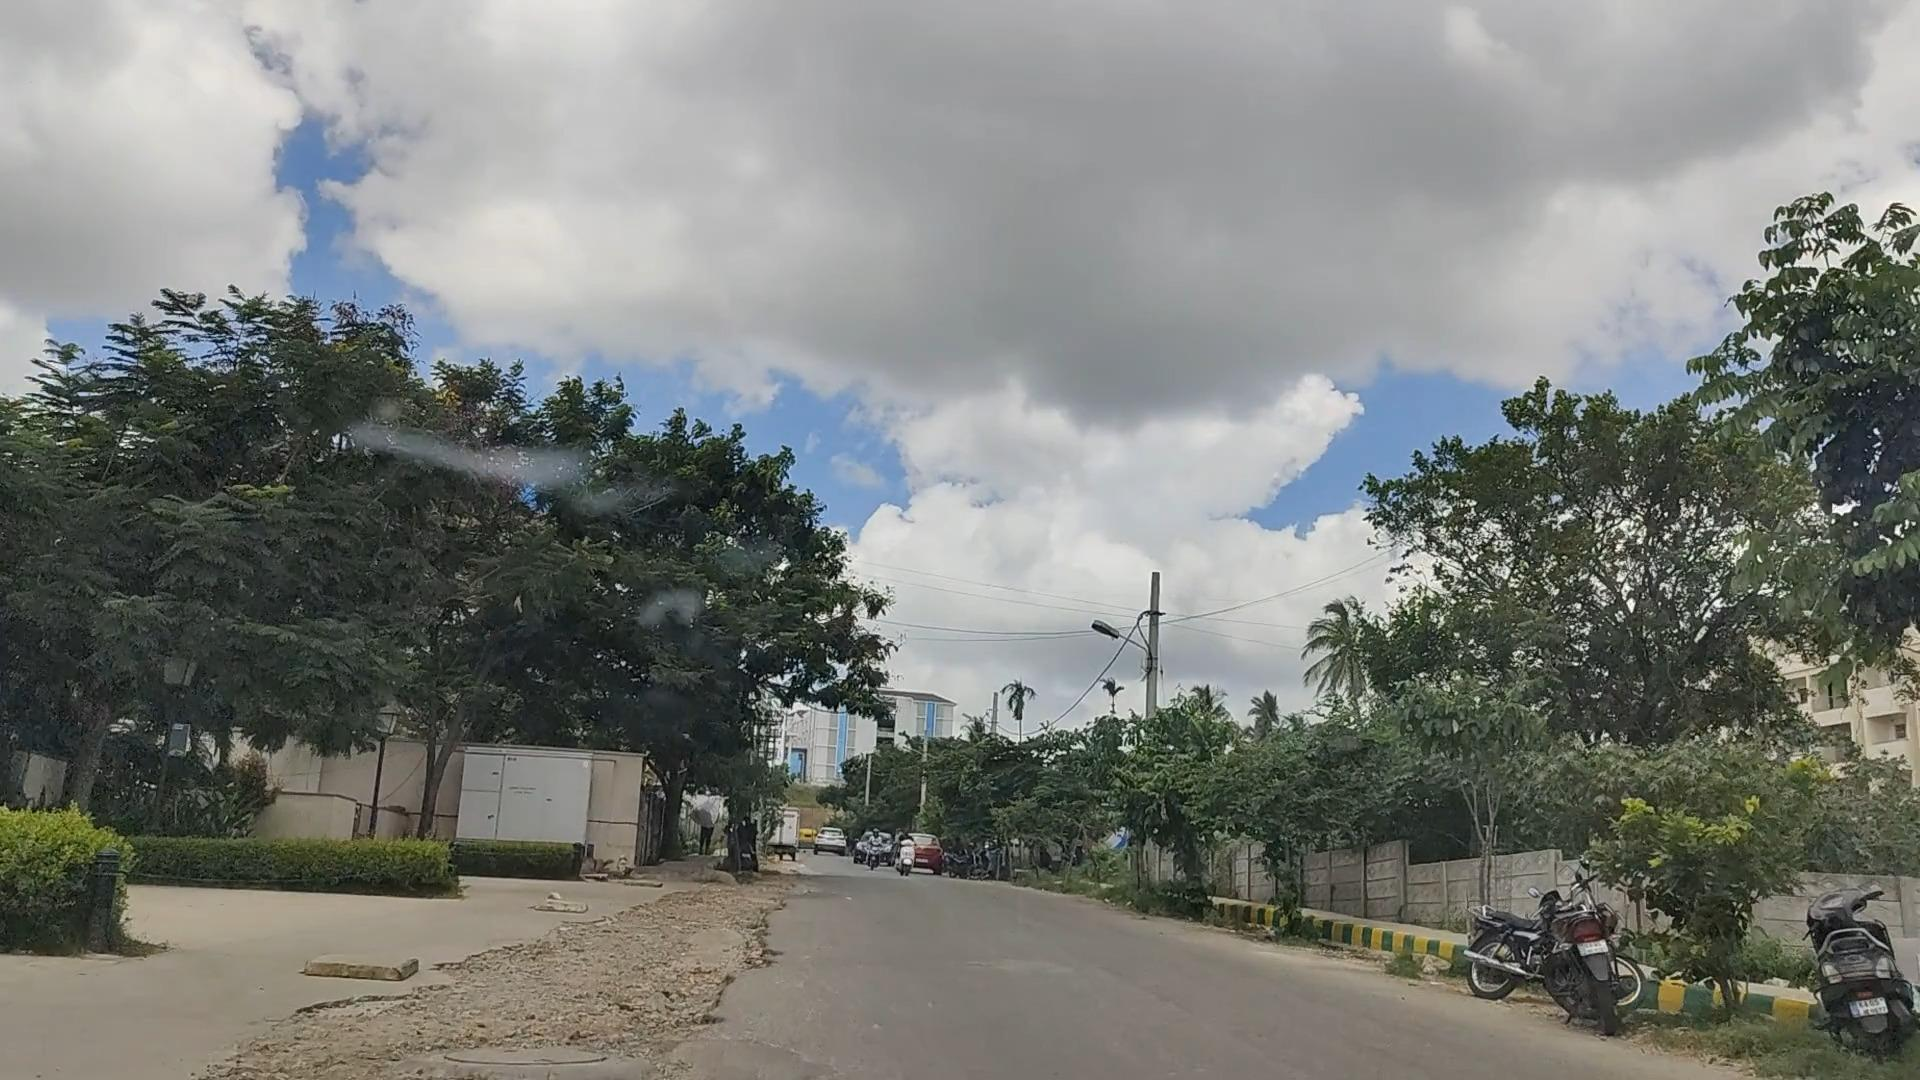RoadDamages: (224, 926, 819, 1073)
